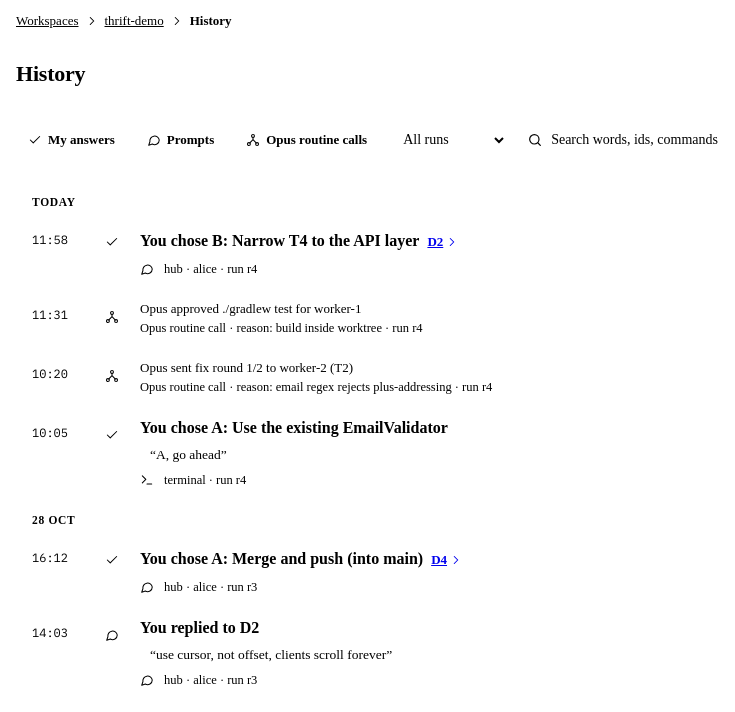
Test case: History Prompts filter › hides prompt rows by default and shows them when enabled
The image size is (735, 712).
Expected: the text "You prompted Opus" is not shown
Click the button "Prompts": point(180, 140) x1=135 y1=118 x2=226 y2=162
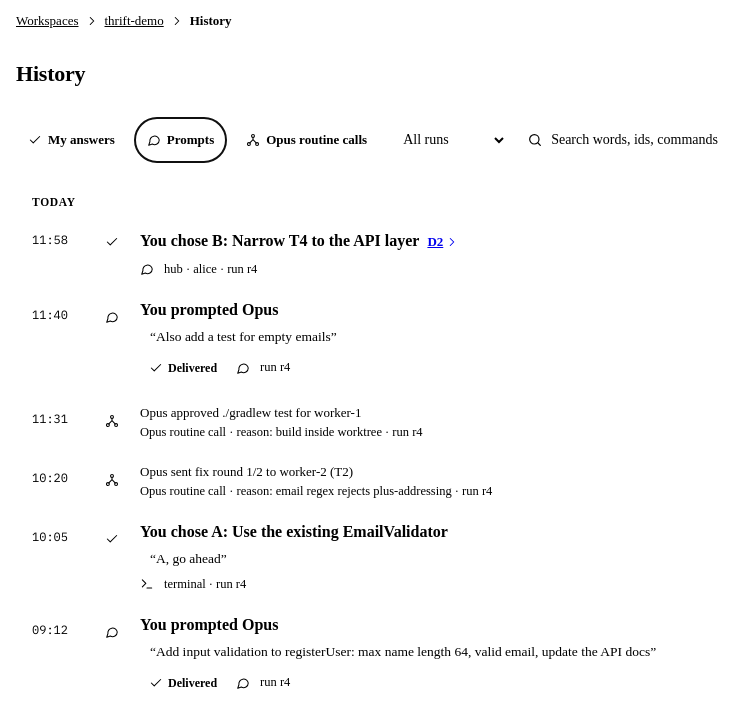
Expected: the text "You prompted Opus" is shown 2 times, x1=140 y1=301 x2=278 y2=319; x1=140 y1=616 x2=278 y2=634
